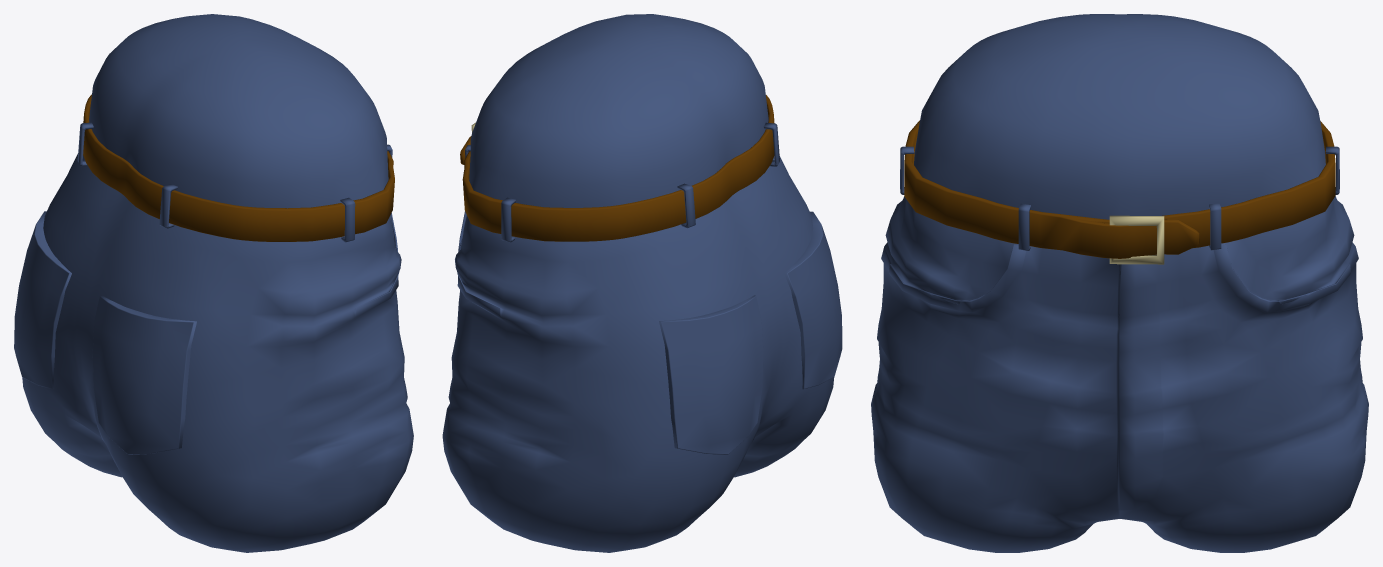
The model's file is HipsLinkFull.dae.
The picture shows the model from 3 angles, left to right: view 1: azimuth 30°, elevation 25°; view 2: azimuth 150°, elevation 25°; view 3: azimuth 270°, elevation 25°; orthographic projection. The views are drawn at different scales.
Visible parts, largest first — view 1: ShapeIndexedFaceSet, ShapeIndexedFaceSet_004, ShapeIndexedFaceSet_005, ShapeIndexedFaceSet_001, ShapeIndexedFaceSet_003; view 2: ShapeIndexedFaceSet, ShapeIndexedFaceSet_004, ShapeIndexedFaceSet_005, ShapeIndexedFaceSet_001, ShapeIndexedFaceSet_003; view 3: ShapeIndexedFaceSet, ShapeIndexedFaceSet_004, ShapeIndexedFaceSet_001, ShapeIndexedFaceSet_003, ShapeIndexedFaceSet_002.
Boxes of the visible parts, x1,y1,x2,y2 form: ShapeIndexedFaceSet: [22, 153, 413, 552]; ShapeIndexedFaceSet_004: [89, 14, 388, 208]; ShapeIndexedFaceSet_005: [14, 211, 196, 454]; ShapeIndexedFaceSet_001: [83, 94, 394, 241]; ShapeIndexedFaceSet_003: [77, 122, 392, 242]; ShapeIndexedFaceSet: [442, 156, 834, 552]; ShapeIndexedFaceSet_004: [469, 14, 768, 207]; ShapeIndexedFaceSet_005: [659, 211, 842, 454]; ShapeIndexedFaceSet_001: [460, 95, 774, 241]; ShapeIndexedFaceSet_003: [465, 122, 779, 242]; ShapeIndexedFaceSet: [871, 196, 1368, 552]; ShapeIndexedFaceSet_004: [914, 14, 1325, 219]; ShapeIndexedFaceSet_001: [904, 120, 1335, 258]; ShapeIndexedFaceSet_003: [900, 146, 1339, 250]; ShapeIndexedFaceSet_002: [1109, 215, 1164, 264].
Size of the model in its own units: 0.2573 by 0.3311 by 0.3792.
